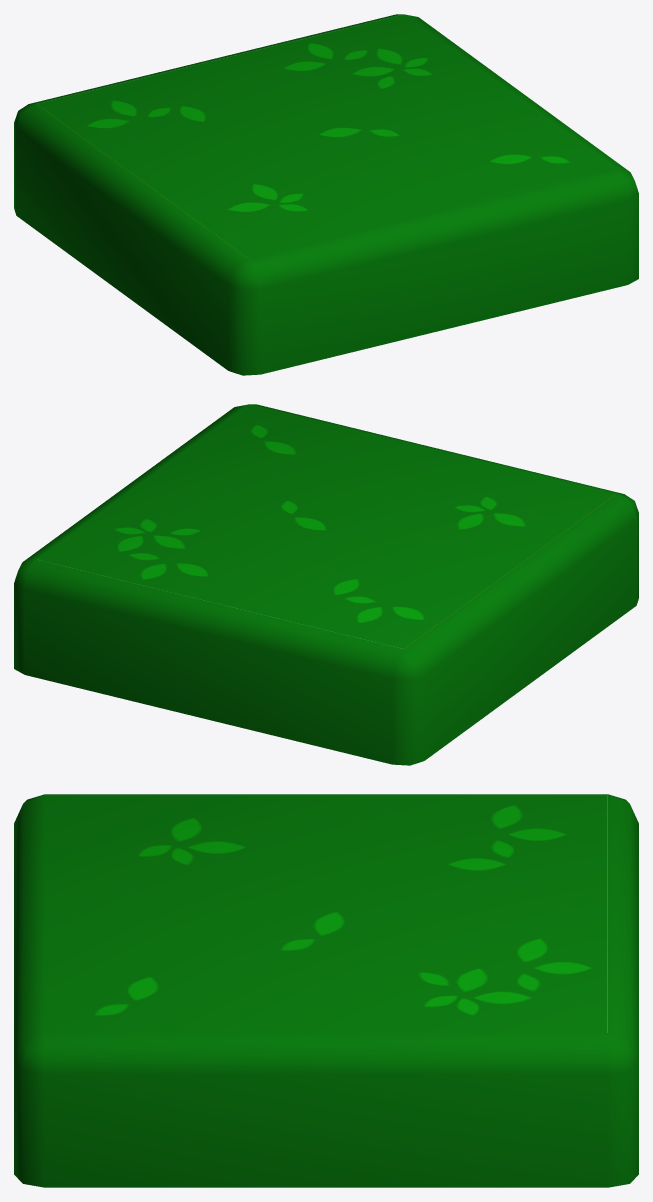
File: 3D_Tile_Top_01v05.fbx
3 views of the same model, one above another, from view 1: azimuth 30°, elevation 25°; view 2: azimuth 150°, elevation 25°; view 3: azimuth 270°, elevation 25° (orthographic). The views are drawn at different scales.
Parts seen in each view (by area): view 1: 3D_Tile_Top_01v05; view 2: 3D_Tile_Top_01v05; view 3: 3D_Tile_Top_01v05.
Boxes of the visible parts, left/top/right/bottom form: 3D_Tile_Top_01v05: left=14, top=14, right=638, bottom=375; 3D_Tile_Top_01v05: left=14, top=404, right=638, bottom=765; 3D_Tile_Top_01v05: left=14, top=794, right=638, bottom=1187.
Size of the model in its own units: 200 by 50 by 200.
